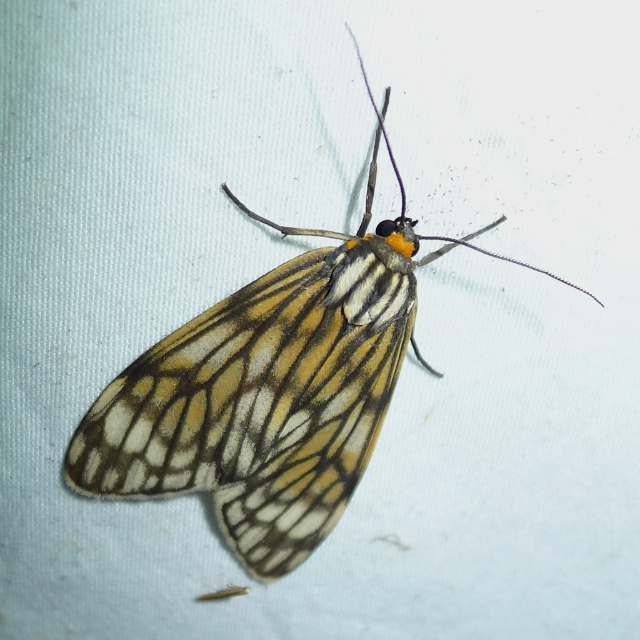Butterfly: (59, 22, 608, 585)
